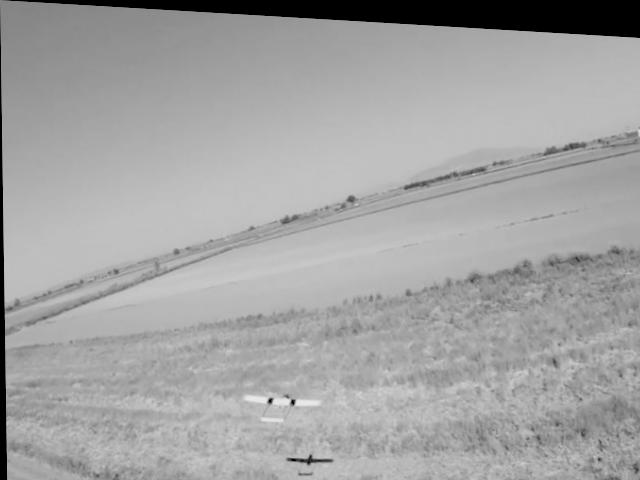hedef: (237, 382, 325, 424)
